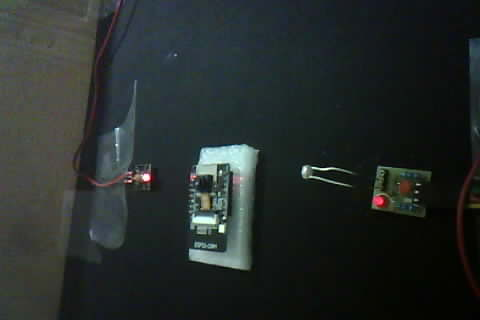esp32: (183, 148, 258, 266)
